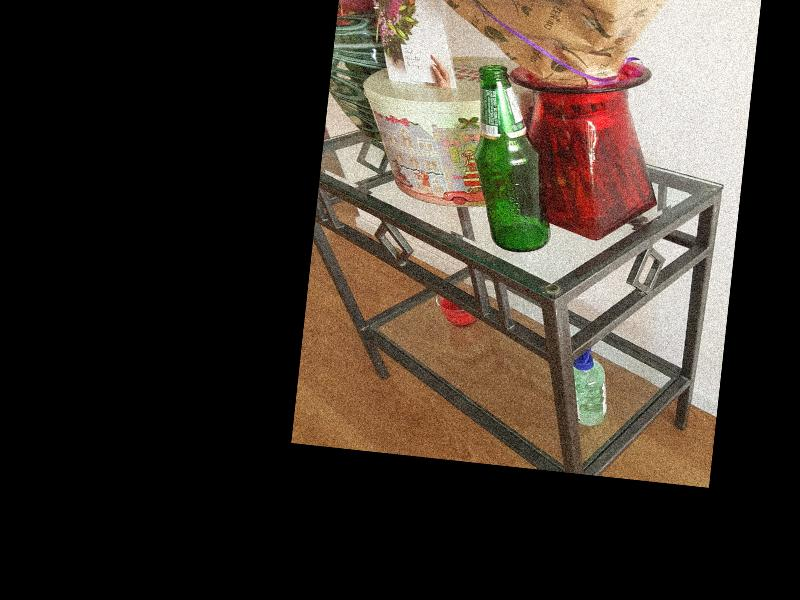Beer: (462, 62, 566, 256)
